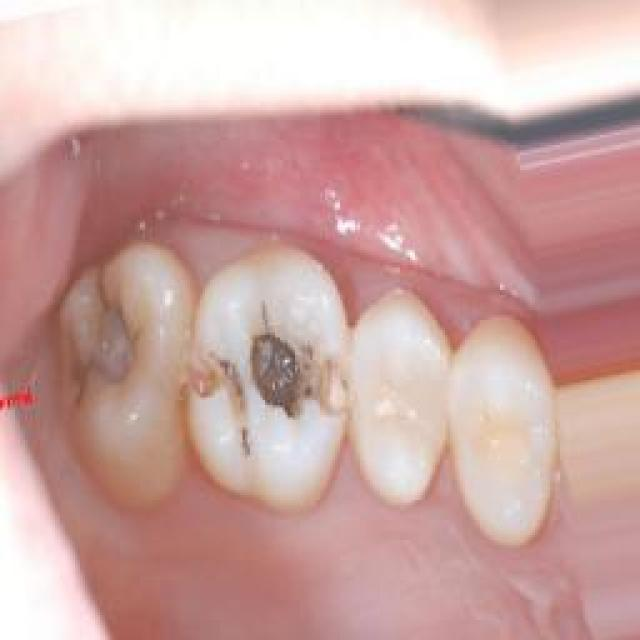decay: (197, 289, 352, 458), (55, 270, 149, 422)
